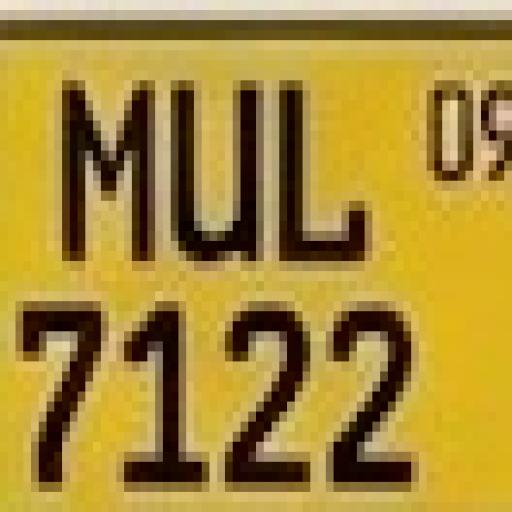1: (121, 310, 210, 488)
2: (218, 300, 318, 510), (330, 295, 417, 502)
7: (9, 298, 112, 490)
L: (266, 78, 377, 254)
M: (44, 64, 160, 276)
U: (170, 72, 264, 268)
